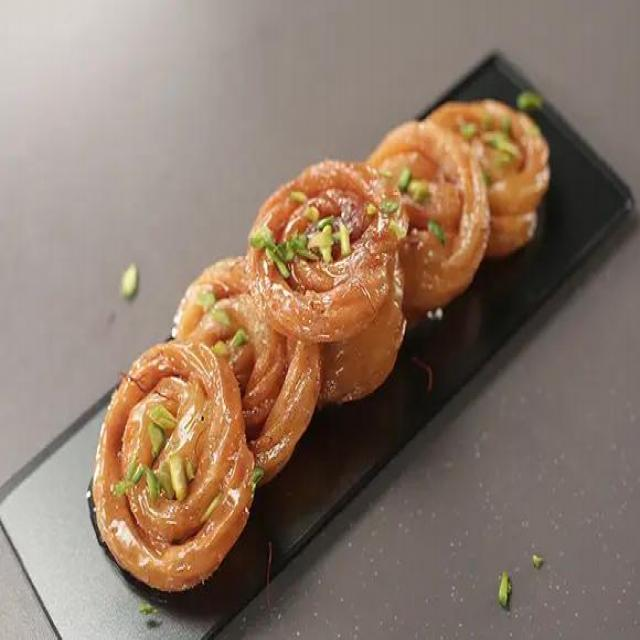jalebi: (98, 101, 542, 599)
